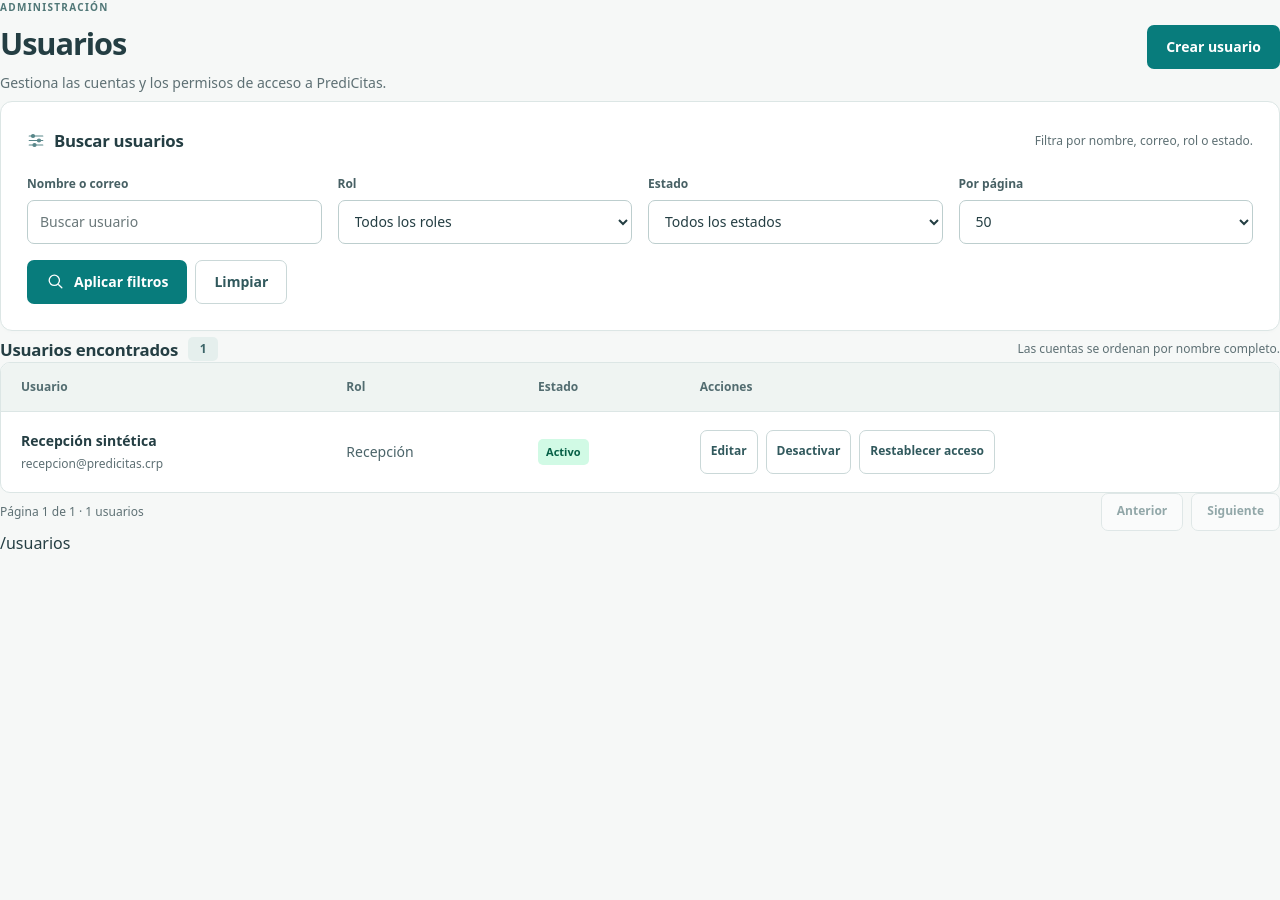
Scenario: Usuarios: crear y editar › valida campos y política en vivo; no envía datos inválidos
Check: the table is shown, box [1, 363, 1279, 492]
Click the button "Crear usuario": [1214, 47] box [1147, 25, 1279, 69]
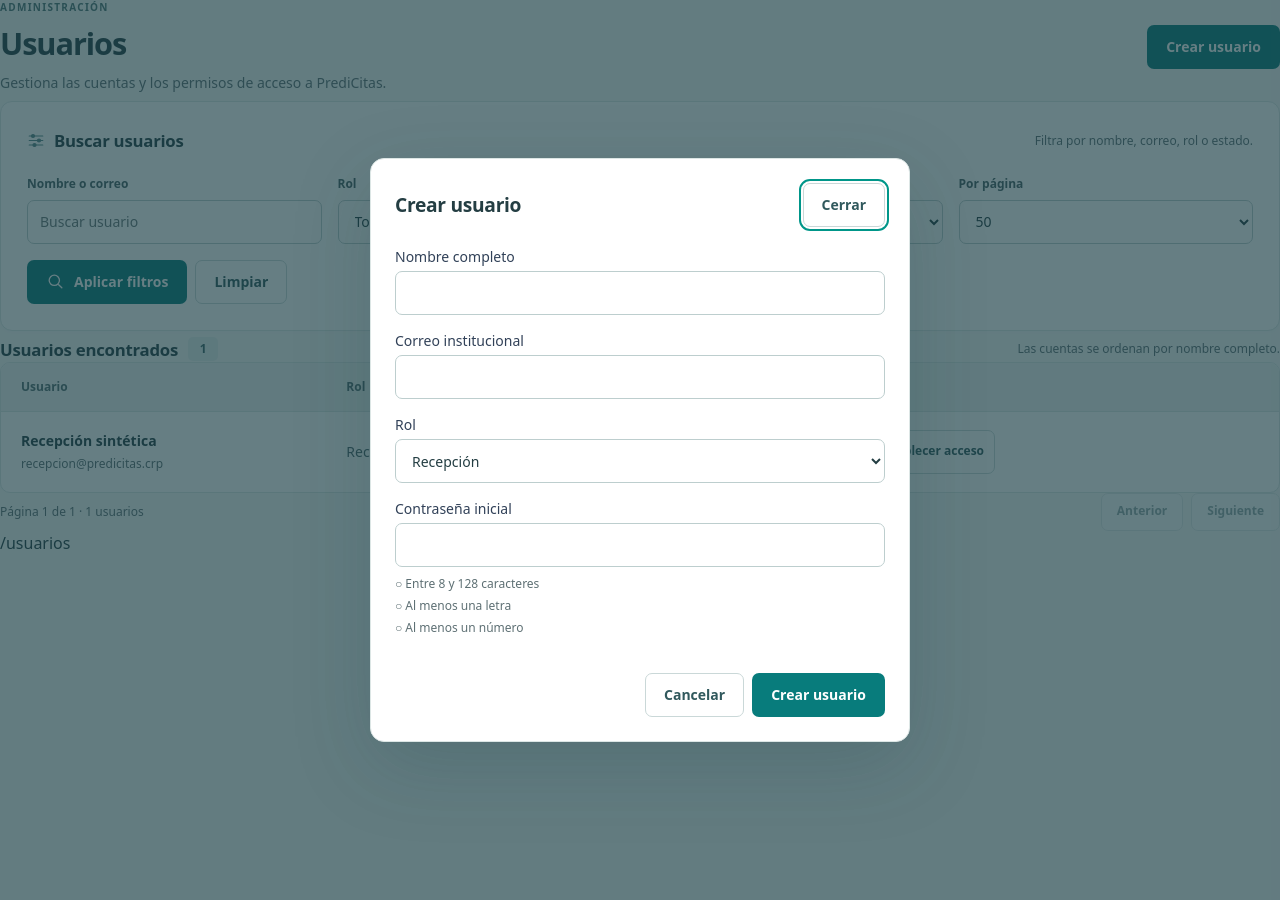
Click the button "Crear usuario": [819, 695] box [752, 673, 885, 717]
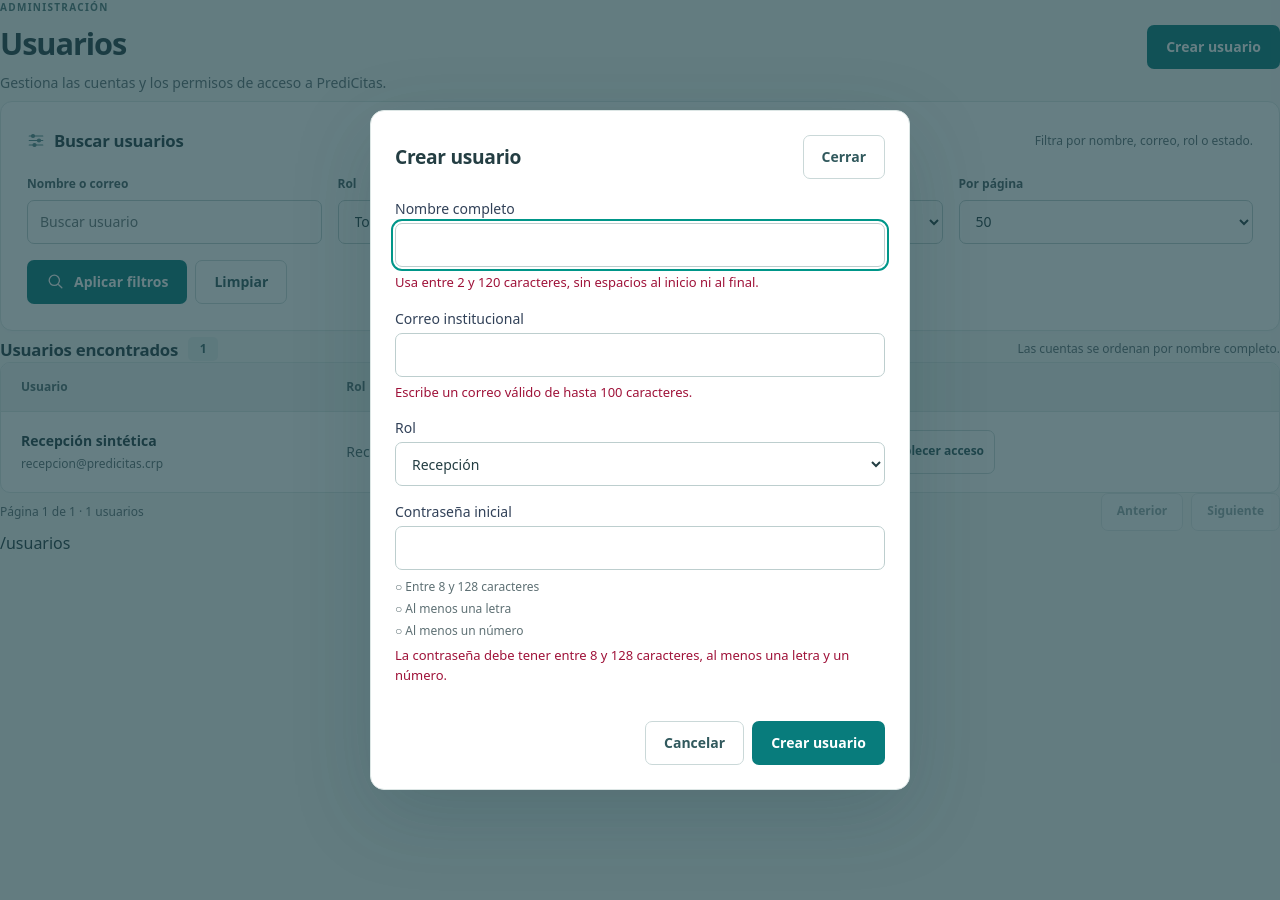
Check: the field labelled "Nombre completo" is marked as invalid, box [395, 223, 885, 267]
In the password field labelled "Contraseña inicial": [640, 548] box [395, 526, 885, 570], type "sololetras"
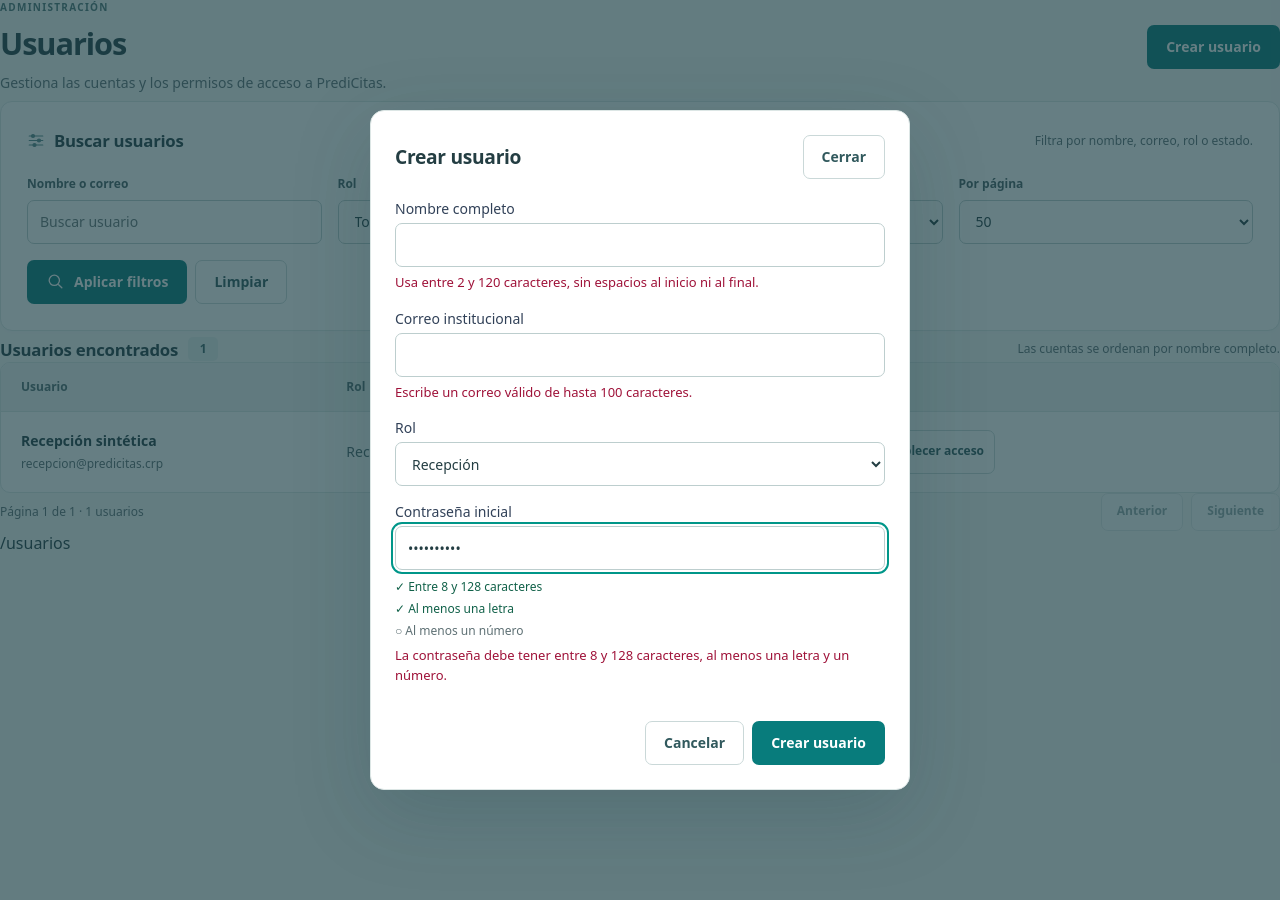
Check: the list item "○ Al menos un número" is shown, box [395, 622, 524, 639]
Check: the list item "✓ Al menos una letra" is shown, box [395, 600, 514, 617]
